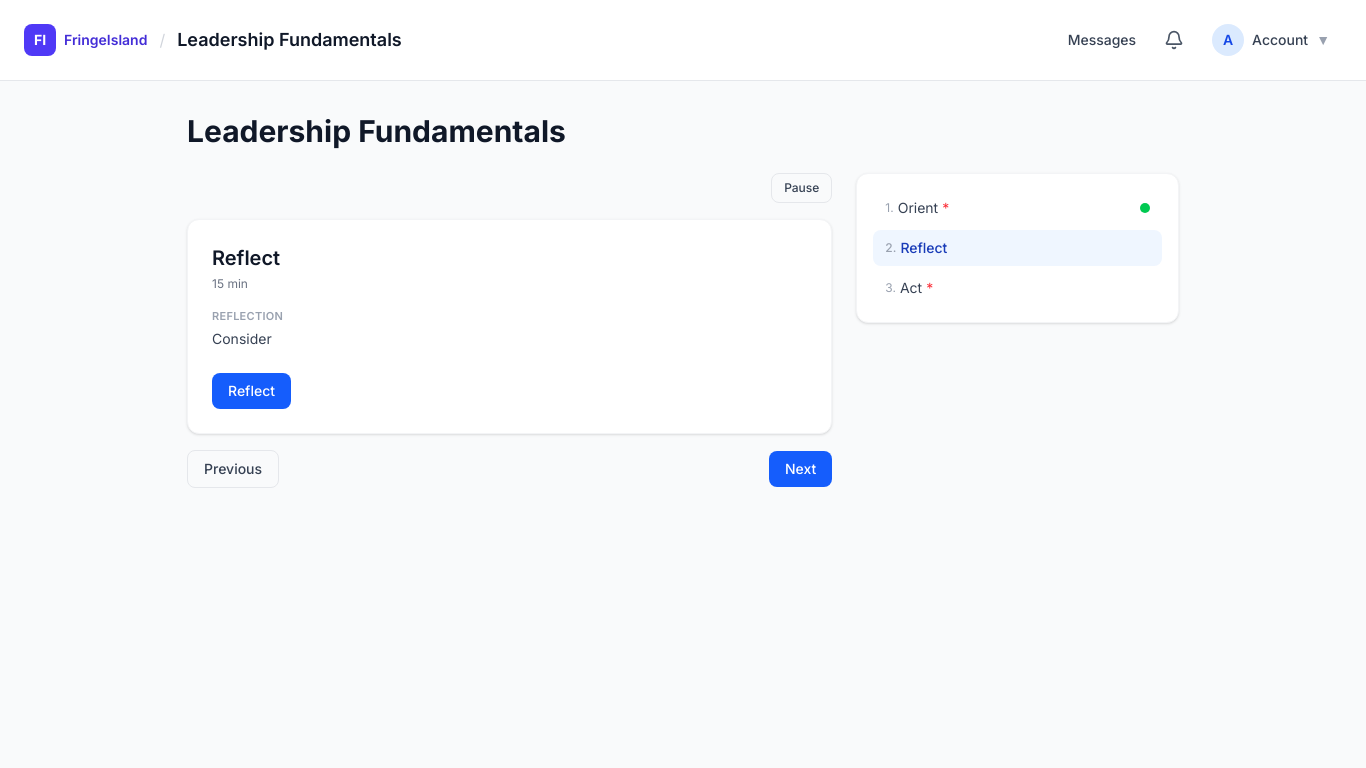
Scenario: FEAT-H021 STORY-1 — the completion moment renders on server confirm (JRN-12) › renders the completion panel (total elapsed) only after journey_completed: true lands
The width and height of the screenshot is (1366, 768).
Expected: the element with test id "journey-player" is shown, x1=187 y1=173 x2=1179 y2=488
Click the button with test id "step-complete".
click(252, 390)  # box x1=212 y1=372 x2=291 y2=408
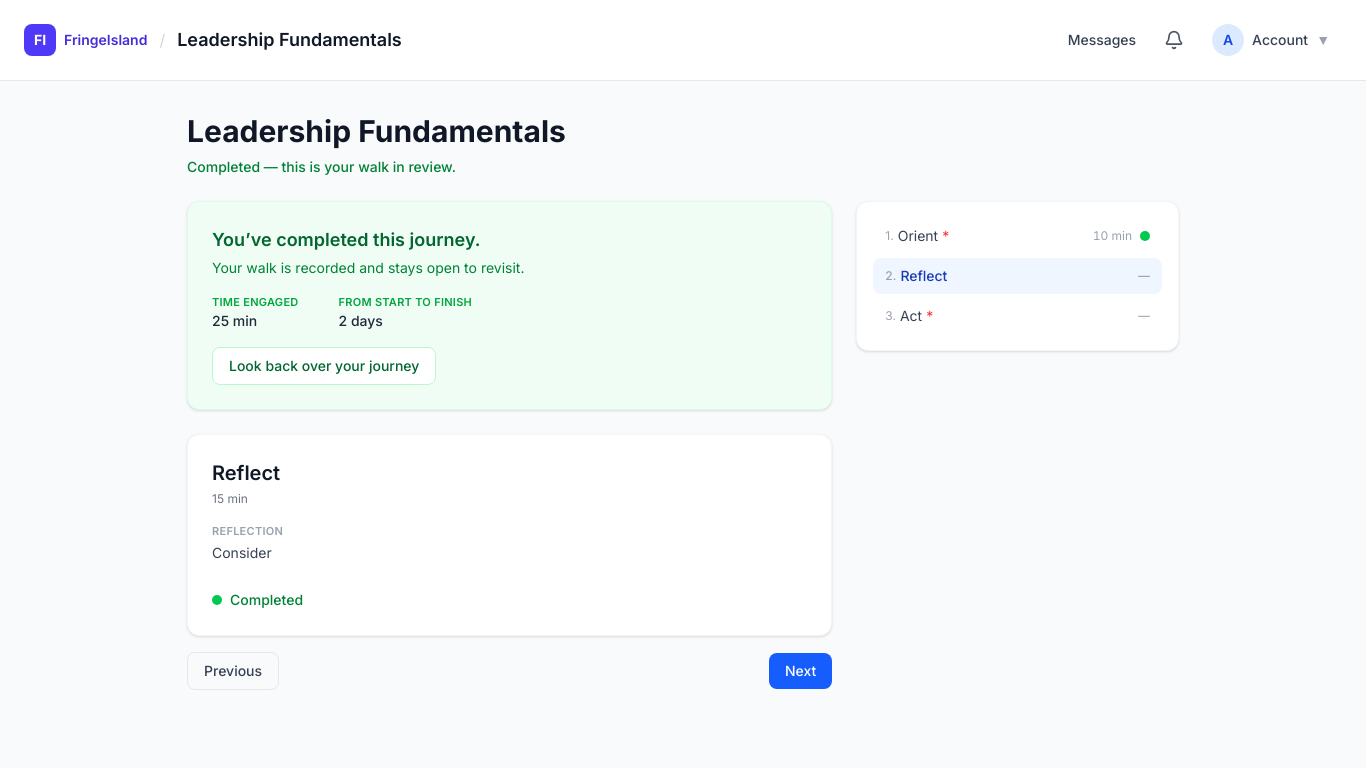
Result: the element with test id "journey-completion-panel" is shown at x1=187 y1=201 x2=832 y2=410
Result: the element with test id "journey-completion-panel" shows "25 min" at x1=212 y1=312 x2=257 y2=328
Result: the text "Completed — this is your walk in review." is shown at x1=187 y1=158 x2=456 y2=175
